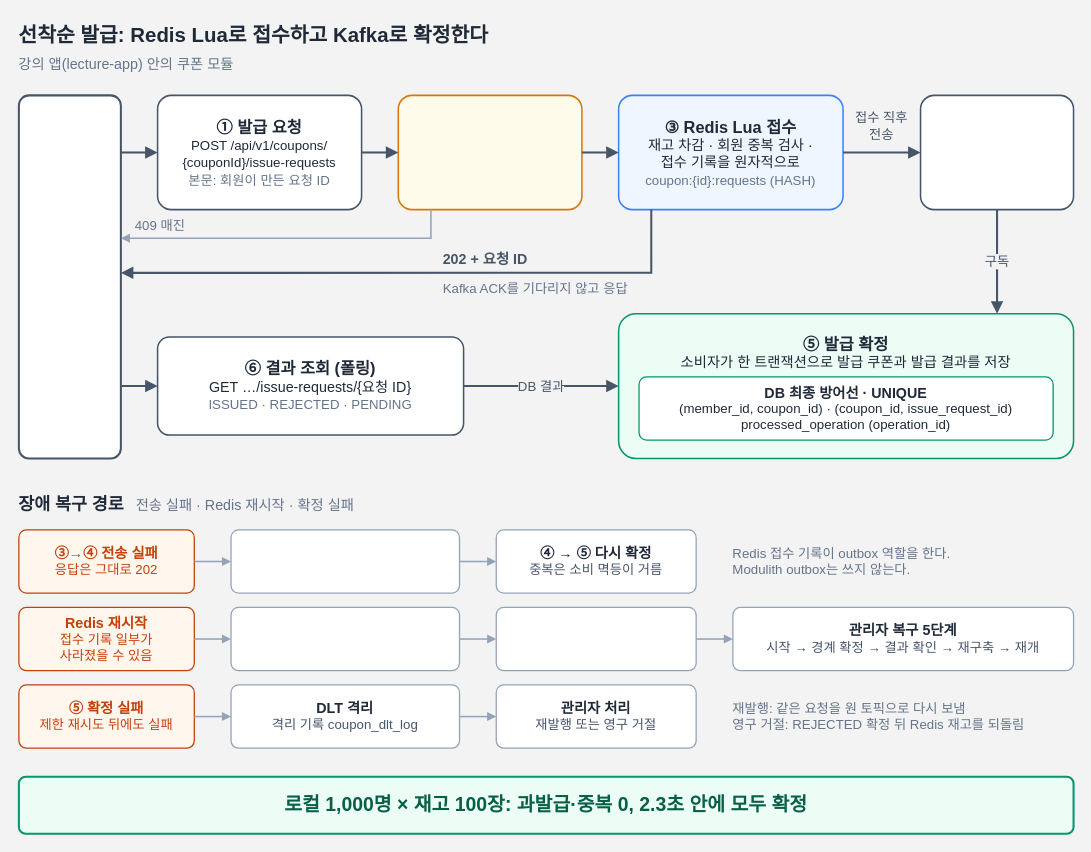
Image size: 1091x852. Some labels were removed from this diagram. Here are the shapes that lost their labels. From the top down, the centre of each, then its label:
point 489,152: ② 매진 빠른 경로 매진 표시가 있으면 Spring Security 앞에서 바로 409
point 996,152: ④ Kafka coupon.events.v1 key = 쿠폰 ID
point 69,276: 회원
point 345,561: 재발행 배치 DB 결과가 없는 접수 기록을 같은 요청 ID로 다시 보냄
point 345,638: run_id 변경 감지 Redis 프로세스 점검 배치
point 595,638: 신규 접수 차단 hold=RECOVERY
